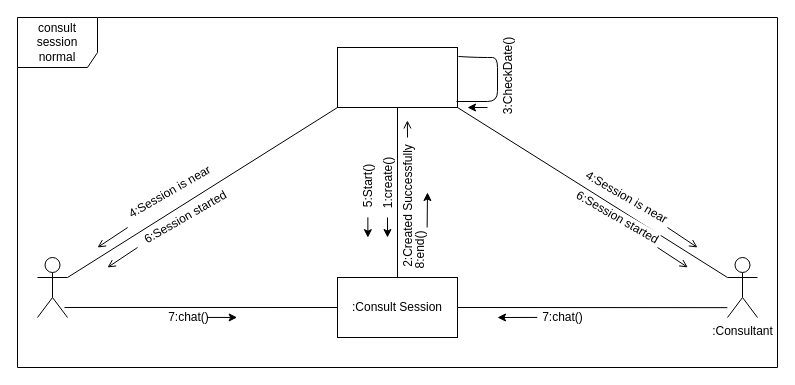
The diagram is 795 pixels wide and 385 high, and some of its shapes have lost their labels. The centre of each missing label's shape, as x and y in pixels:
":Student" goes at point (52, 287).
"System" goes at point (397, 77).
